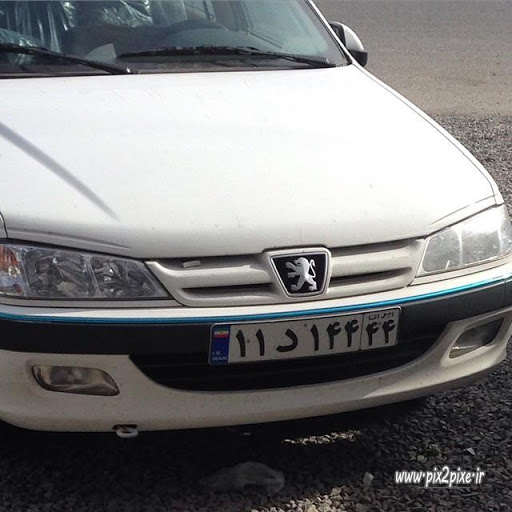car: (207, 306, 400, 366)
